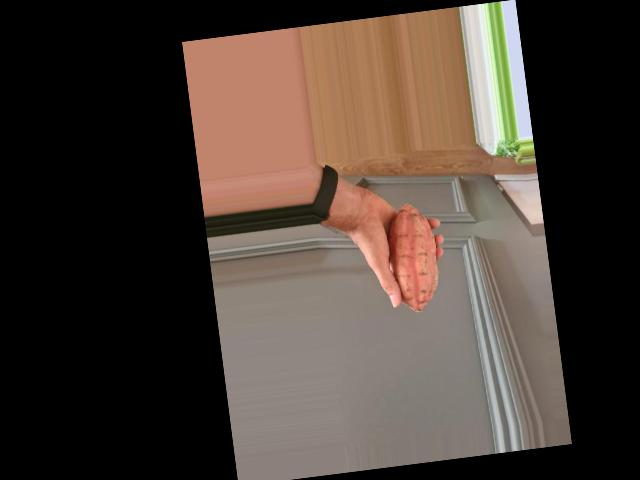sweet_potato: (381, 201, 442, 315)
